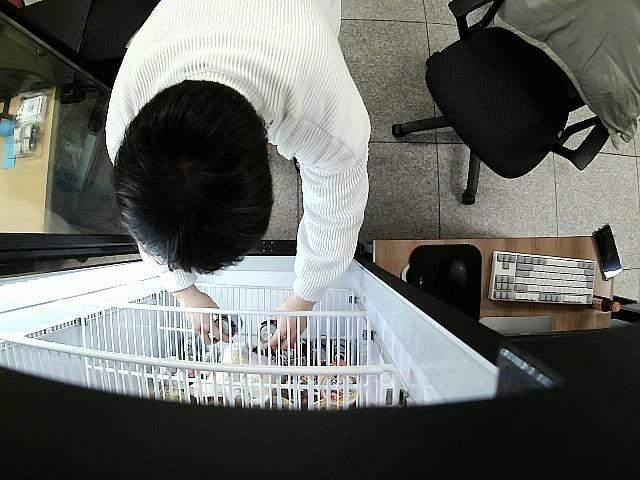14_welchsGrape: (209, 315, 243, 343), (258, 320, 282, 344)
